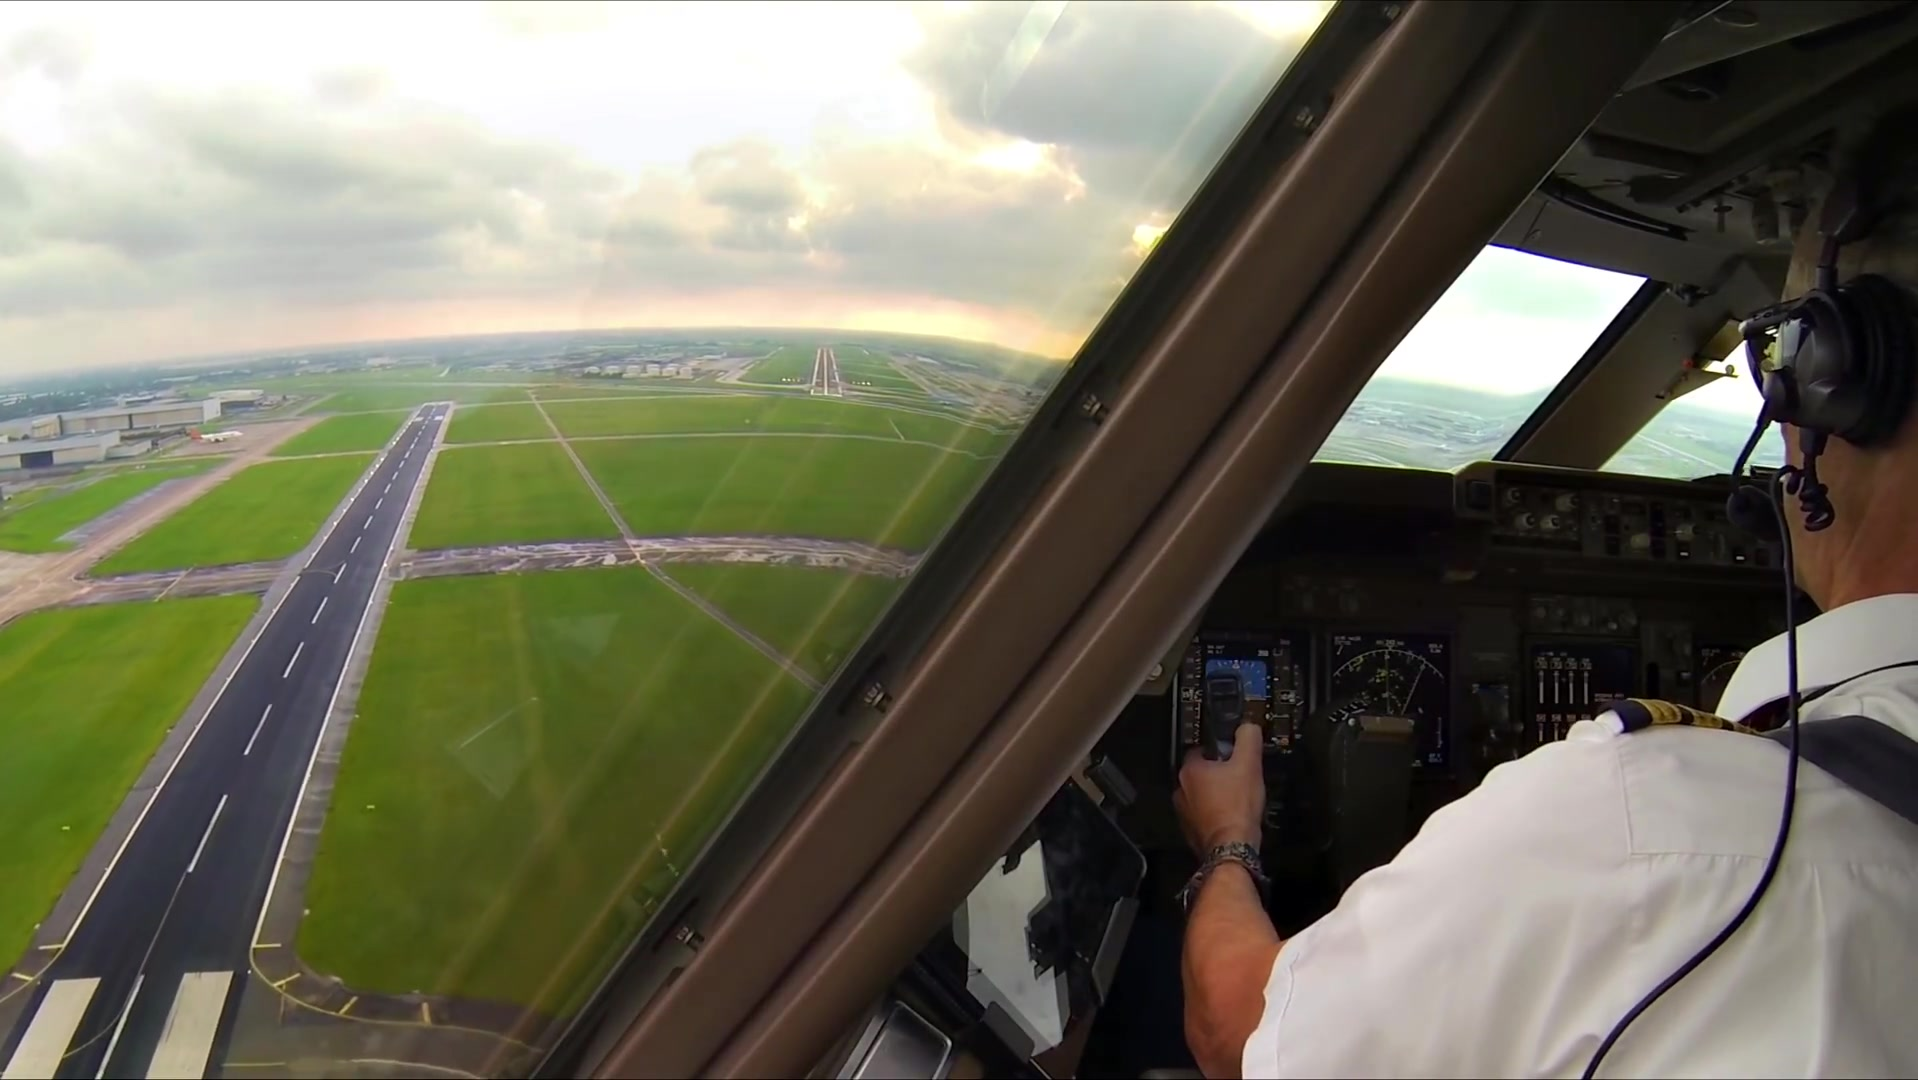runway: (806, 345, 843, 410)
